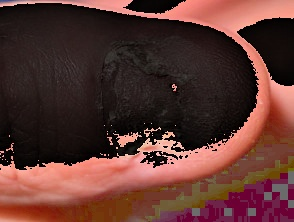Nail_psoriasis: (82, 23, 248, 179)
